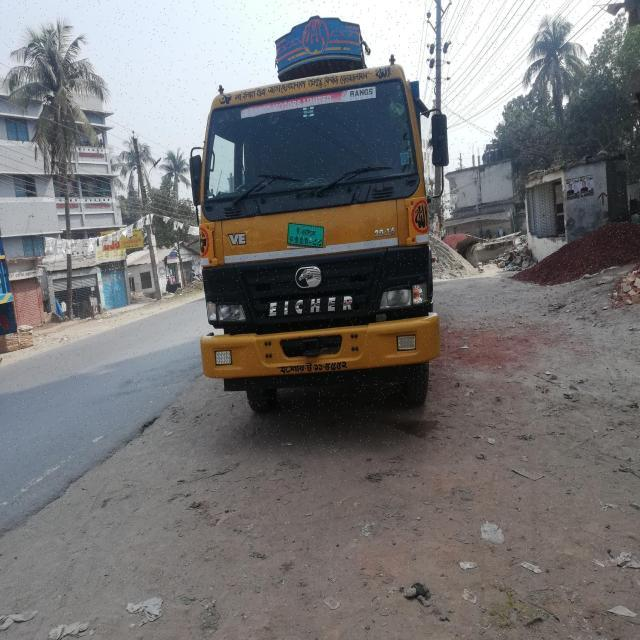numberplate: (287, 221, 326, 248)
